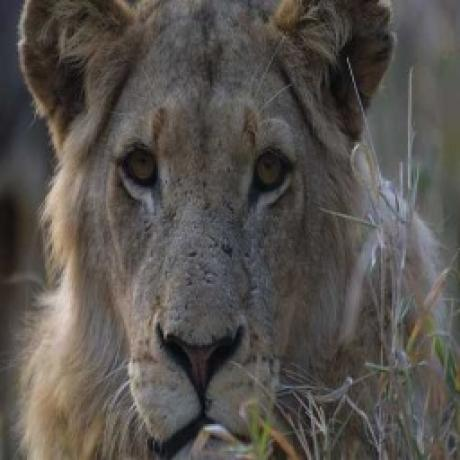Lion: (18, 0, 443, 460)
